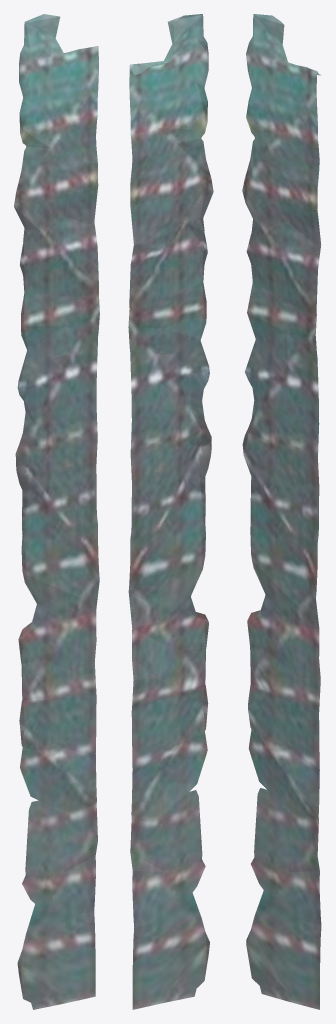
The model's file is Tile__003__006_L21_0000400.glb.
3 views of the same model, side by side, from view 1: azimuth 30°, elevation 25°; view 2: azimuth 210°, elevation 25°; view 3: azimuth 330°, elevation 25° (orthographic).
Visible parts, largest first — view 1: root; view 2: root; view 3: root.
Part boxes in pixels (<box>): root: <box>14,14,99,1009</box>; root: <box>128,14,213,1009</box>; root: <box>242,14,321,1009</box>.
Bounding box in the file's own units: 1.84 × 21.81 × 0.2418.
1 material, 1 textured.
